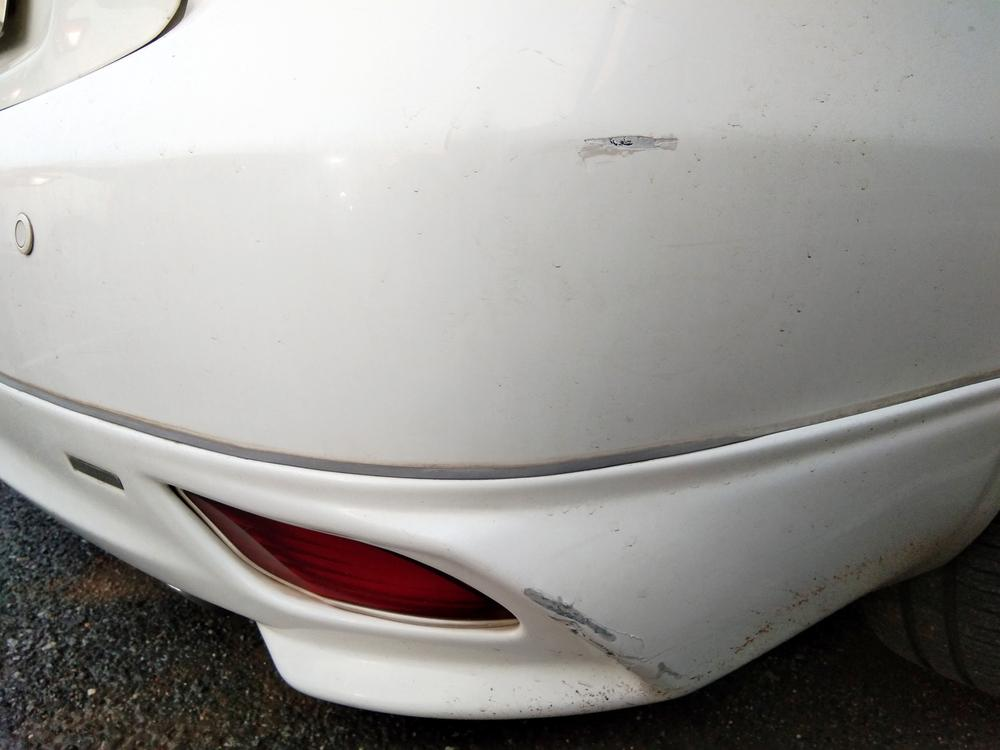scratch: (518, 585, 685, 687), (571, 132, 688, 166)
